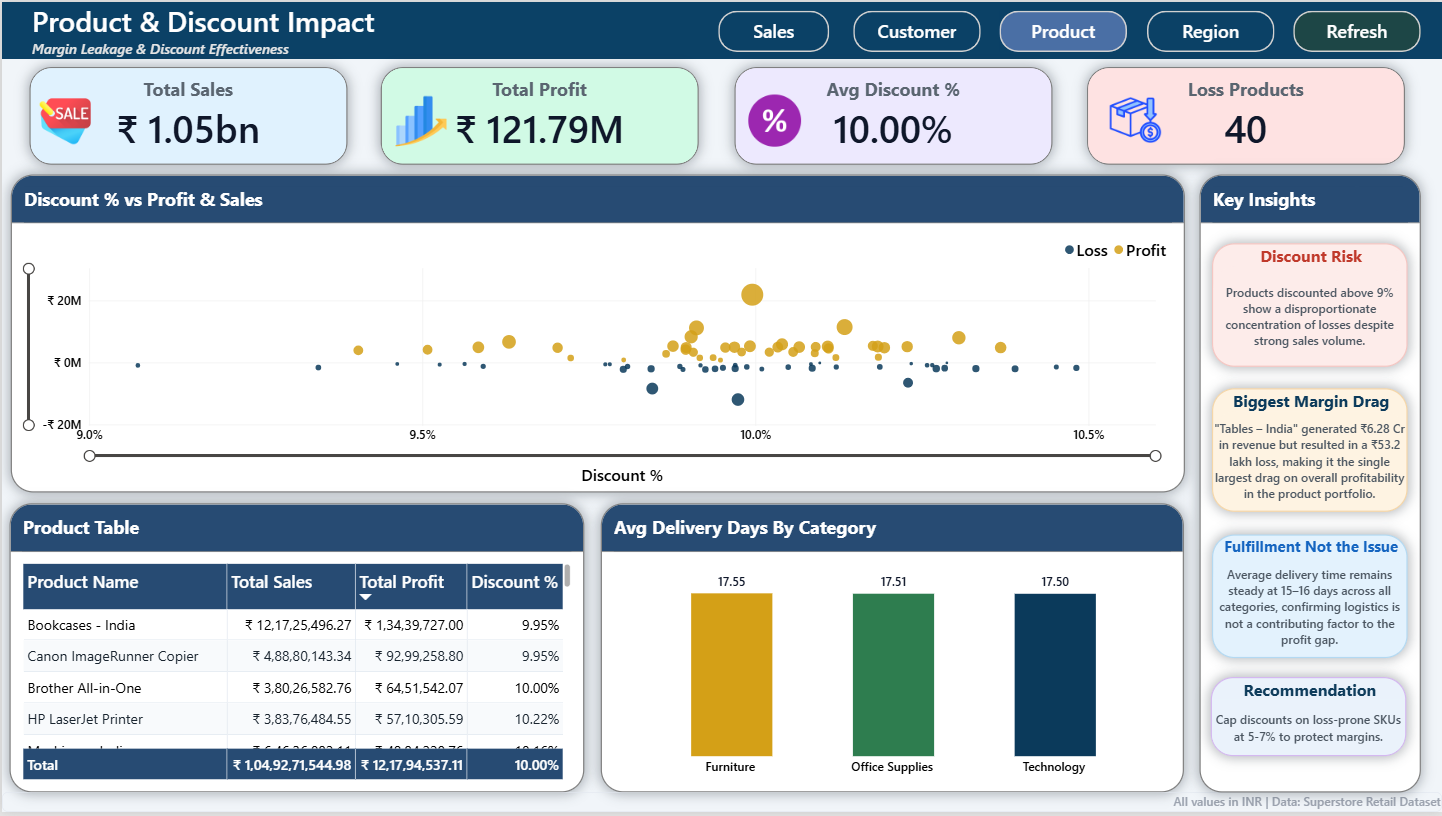

What the dashboard file says about the page in this screenshot:
{"tool":"powerbi","page":{"name":"Product & Discount Impact","canvas":[1920,1080],"ordinal":2},"visuals":[{"type":"scatterChart","title":"Discount % vs Profit & Sales","fields":{"Category":["Orders.Product Name"],"Series":["Orders.Profit Status"],"Size":["Orders.Total Sales"],"X":["Orders.Discount %"],"Y":["Orders.Total Profit (M)"]},"box":[10.9,230.1,1565.3,424.4],"z":0},{"type":"tableEx","title":"Product Table","fields":{"Values":["Orders.Product Name","Orders.Total Sales1","Orders.Total Profit (M)","Orders.Discount %"]},"box":[9.3,668.4,766.3,385.5],"z":1000},{"type":"clusteredColumnChart","title":"Avg Delivery Days By Category","fields":{"Category":["Orders.Category"],"Series":["Orders.Category"],"Y":["Orders.Avg Delivery Days"]},"box":[798.8,668,777.9,385.5],"z":2000},{"type":"textbox","box":[0,1053.9,1919.7,26.4],"z":3000},{"type":"textbox","box":[0,0,1919.7,76.2],"z":4000},{"type":"actionButton","box":[1526.4,10.9,170,55],"z":5000},{"type":"cardVisual","fields":{"Data":["Orders.Total Sales"]},"box":[37.3,87,424,130],"z":6000},{"type":"cardVisual","fields":{"Data":["Orders.Total Profit"]},"box":[505.2,87,424,130],"z":7000},{"type":"cardVisual","fields":{"Data":["Orders.Avg Discount %"]},"box":[976.2,87,424,130],"z":8000},{"type":"cardVisual","fields":{"Data":["Orders.Loss Products"]},"box":[1447.2,87,424,130],"z":9000},{"type":"image","box":[37.3,124.4,94.8,68.4],"z":10000},{"type":"image","box":[516.1,124.4,83.9,68.4],"z":11000},{"type":"image","box":[976.2,122.8,107.3,69.9],"z":12000},{"type":"image","box":[1459.6,122.8,102.6,68.4],"z":13000},{"type":"shape","title":"Key Insights","box":[1596.4,230.1,295.3,823.8],"z":14000},{"type":"shape","title":"Discount Risk","box":[1613.5,321.8,261.1,165],"z":15000},{"type":"shape","title":"Biggest Margin Drag","box":[1613.5,514.5,261,165],"z":16000},{"type":"shape","title":"Fulfillment Not the Issue","box":[1613.5,710.4,261.1,165],"z":17000},{"type":"shape","title":"Recommendation","box":[1611.7,900,261.1,105.7],"z":18000},{"type":"actionButton","box":[955.2,11.1,148,55],"z":19000},{"type":"actionButton","box":[1134.7,10.9,170,55],"z":20000},{"type":"actionButton","box":[1330.6,10.9,170,55],"z":21000},{"type":"actionButton","box":[1722.3,10.9,170,55],"z":21001}]}

Visuals, with their boxes in screenshot pixels (x1, y1, x2, y2), scaled from the page's 1920x1080 canvas onto the 1442x816 screenshot:
"Discount % vs Profit & Sales" scatterChart: 8, 174, 1184, 495
"Product Table" tableEx: 7, 505, 583, 796
"Avg Delivery Days By Category" clusteredColumnChart: 600, 505, 1184, 796
textbox: 0, 796, 1441, 815
textbox: 0, 0, 1441, 58
actionButton: 1146, 8, 1274, 50
cardVisual - Orders.Total Sales: 28, 66, 346, 164
cardVisual - Orders.Total Profit: 379, 66, 698, 164
cardVisual - Orders.Avg Discount %: 733, 66, 1052, 164
cardVisual - Orders.Loss Products: 1087, 66, 1405, 164
image: 28, 94, 99, 146
image: 388, 94, 451, 146
image: 733, 93, 814, 146
image: 1096, 93, 1173, 144
"Key Insights" shape: 1199, 174, 1421, 796
"Discount Risk" shape: 1212, 243, 1408, 368
"Biggest Margin Drag" shape: 1212, 389, 1408, 513
"Fulfillment Not the Issue" shape: 1212, 537, 1408, 661
"Recommendation" shape: 1210, 680, 1407, 760
actionButton: 717, 8, 829, 50
actionButton: 852, 8, 980, 50
actionButton: 999, 8, 1127, 50
actionButton: 1294, 8, 1421, 50
